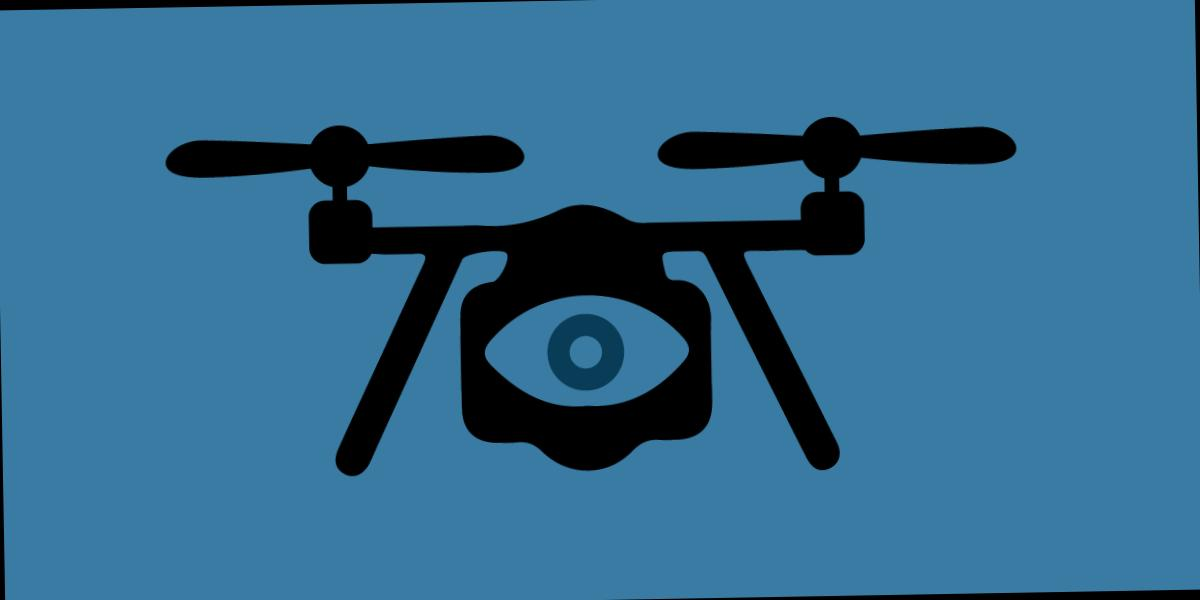drone: (152, 94, 1116, 464)
